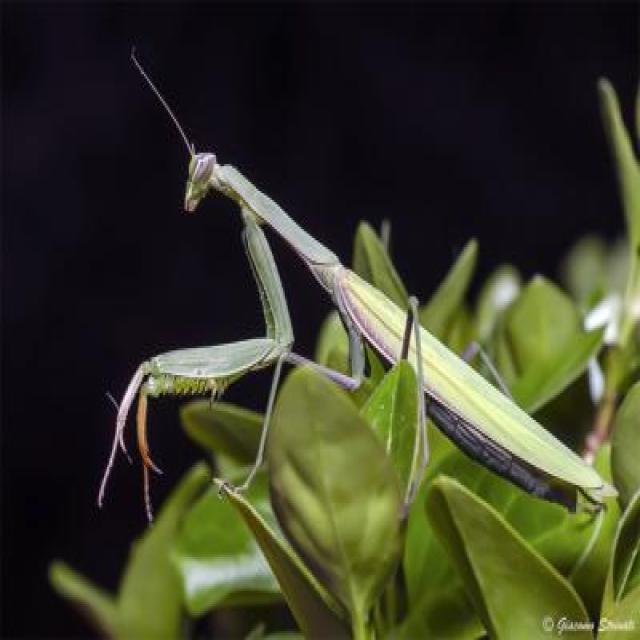antennae: (130, 50, 194, 156)
body: (184, 153, 606, 512)
insect: (95, 50, 618, 521)
legs: (94, 220, 290, 530), (142, 221, 288, 524), (229, 323, 368, 493), (402, 293, 431, 532)
mouthpart: (184, 190, 201, 216)
wings: (340, 269, 610, 500)
